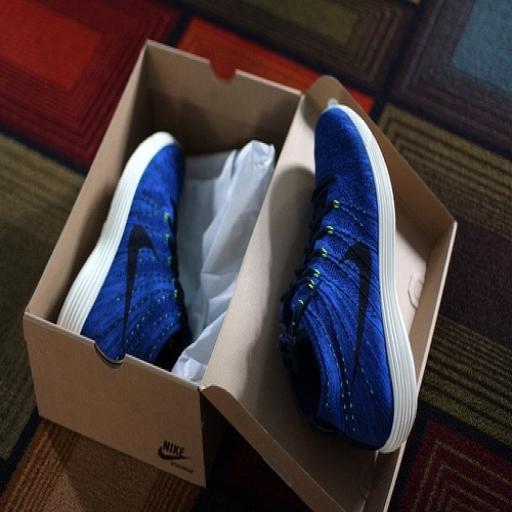shoe: (278, 105, 418, 452), (58, 132, 190, 368)
